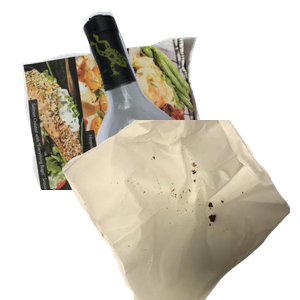glass: (81, 10, 300, 190)
paper: (20, 34, 221, 214)
plastic: (99, 120, 289, 300)
trash: (60, 120, 300, 300)
